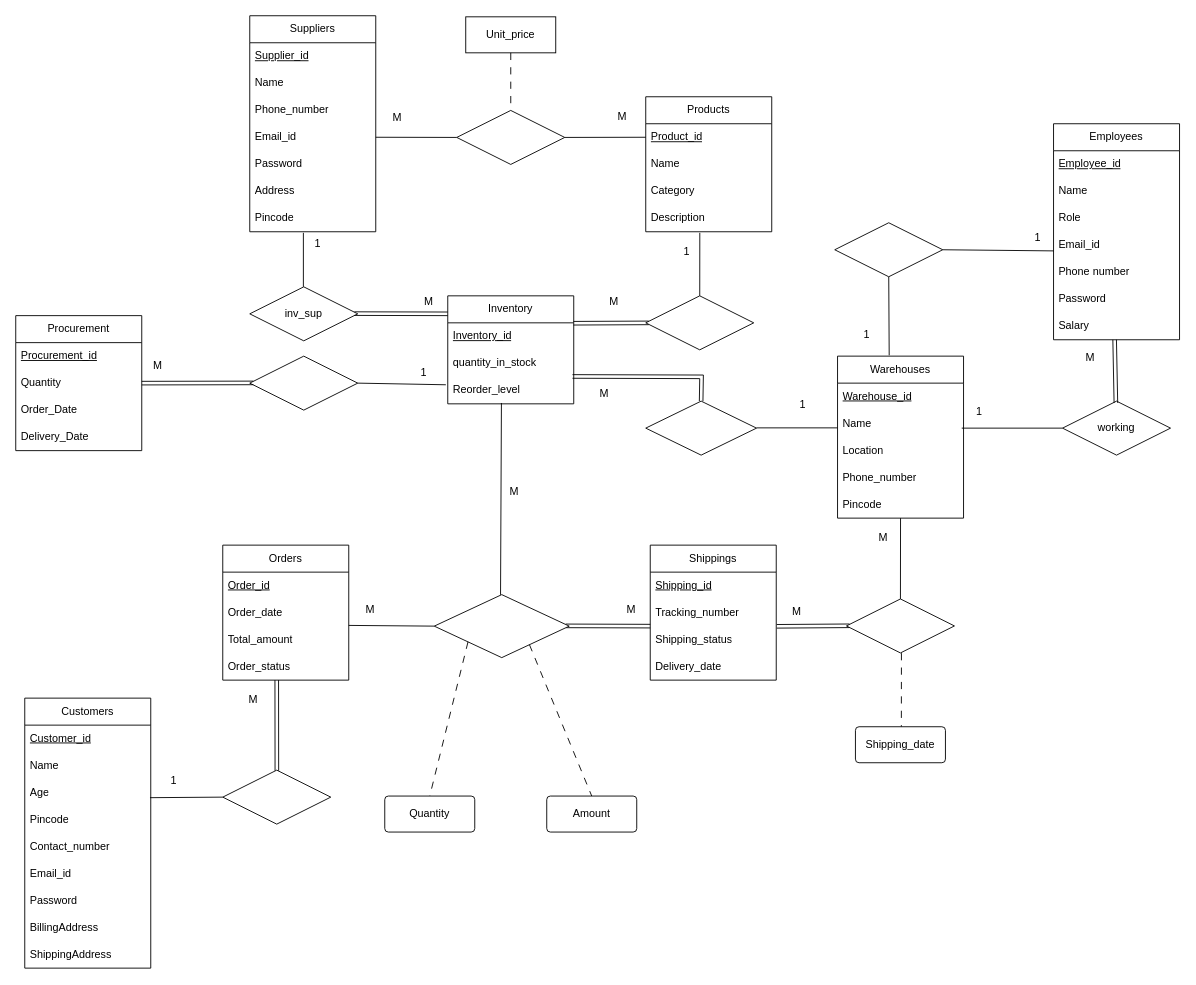
The diagram is 1196 pixels wide and 985 high, and some of its shapes have lost their labels. The shapes that lost their labels are listed below. From the top down, each one's centre as x and y in pixels, then its label:
At (510,137): "Prices".
At (888,249): "manages".
At (699,322): "inv_prod".
At (303,382): "inv_proc".
At (701,427): "inv_wd".
At (501,626): "order_details".
At (900,625): "Shipping_details".
At (276,796): "ordered_by".
